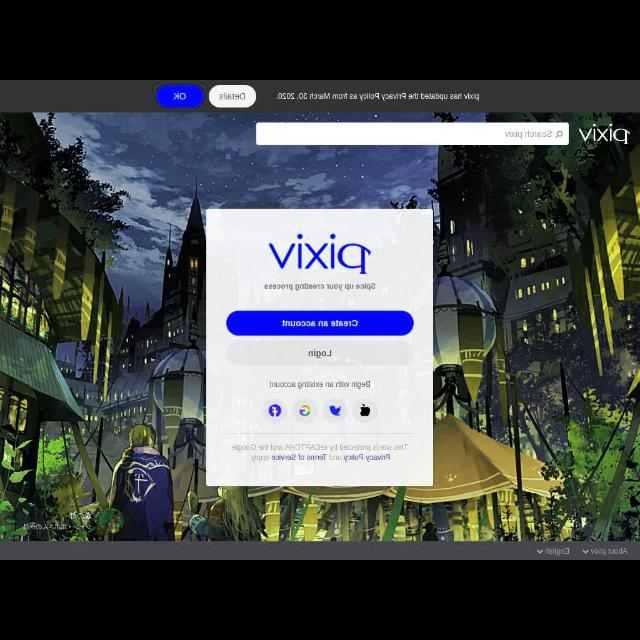backgroundimage: (1, 113, 640, 541)
button: (322, 398, 348, 424), (292, 398, 318, 424), (262, 398, 288, 422), (352, 398, 376, 422)
icon: (298, 404, 312, 416), (269, 404, 281, 416), (328, 406, 342, 416), (358, 404, 369, 416), (554, 131, 564, 139), (536, 548, 544, 556), (582, 548, 590, 556)
image: (268, 232, 372, 274), (578, 124, 630, 144)
input: (256, 123, 568, 145)
panel: (206, 208, 432, 488)
spinner: (582, 547, 628, 557), (536, 547, 570, 557)
text: (231, 443, 409, 463), (276, 92, 480, 102), (263, 282, 377, 292), (268, 381, 370, 389), (280, 319, 358, 329), (503, 129, 552, 139), (590, 548, 628, 556), (308, 349, 332, 359), (218, 92, 246, 100), (544, 548, 570, 556), (173, 93, 187, 101)
textbutton: (224, 340, 413, 366), (225, 310, 413, 336), (208, 84, 258, 108), (156, 85, 204, 108)
